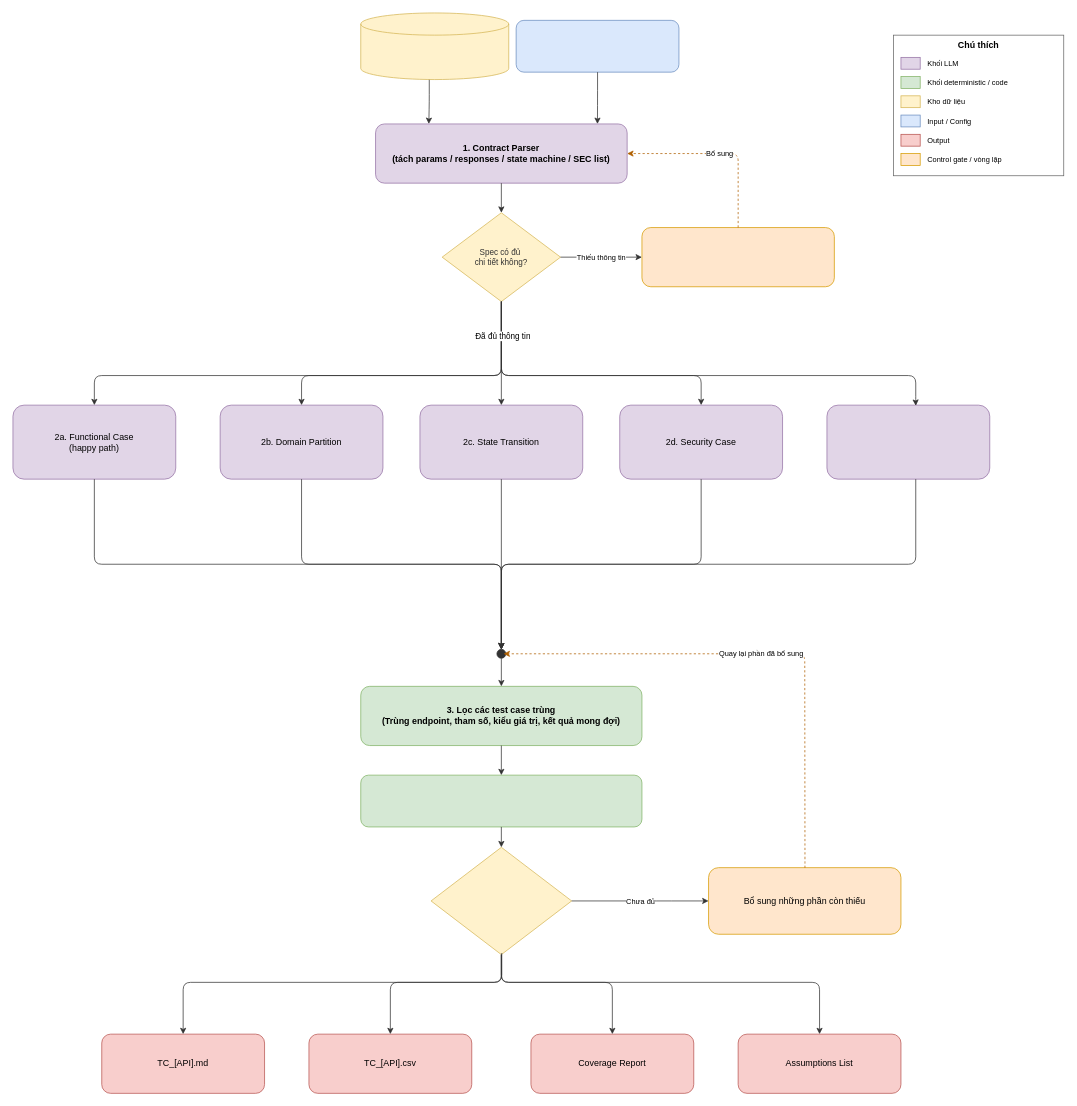
Image size: 1077x1106. Some labels were removed from this diagram. The shapes that lost their labels are listed below. From the top down, each one's centre as x and y in pixels, then its label:
At (x=434, y=46): "api_specification.md (Đặc tả API)".
At (x=597, y=46): "Config (endpoint, Student ID, môi trường)".
At (x=737, y=257): "Hỏi lại người dùng".
At (x=908, y=441): "2e. Schema Case".
At (x=501, y=800): "4. Gán TC_ID + Inject header X-Student-Id (TC-[POOL]-[FEATURE]-[CAT]-NNN)".
At (x=501, y=901): "5. Kiểm tra độ phủ Đủ >=35TC và phủ hết DP/ST/SEC/SCH?".
